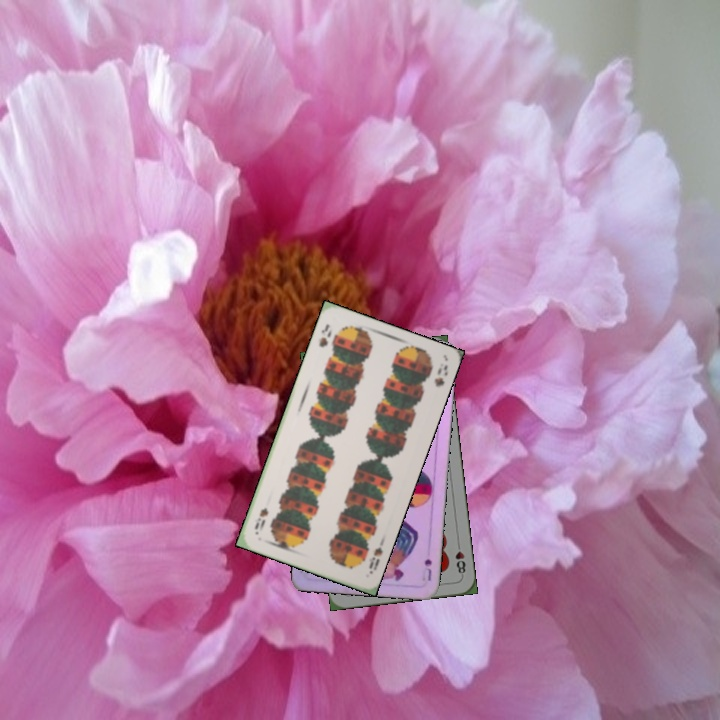H8: (451, 538, 468, 579)
S8: (315, 320, 335, 350), (364, 543, 385, 571)
SU: (417, 554, 434, 583)
